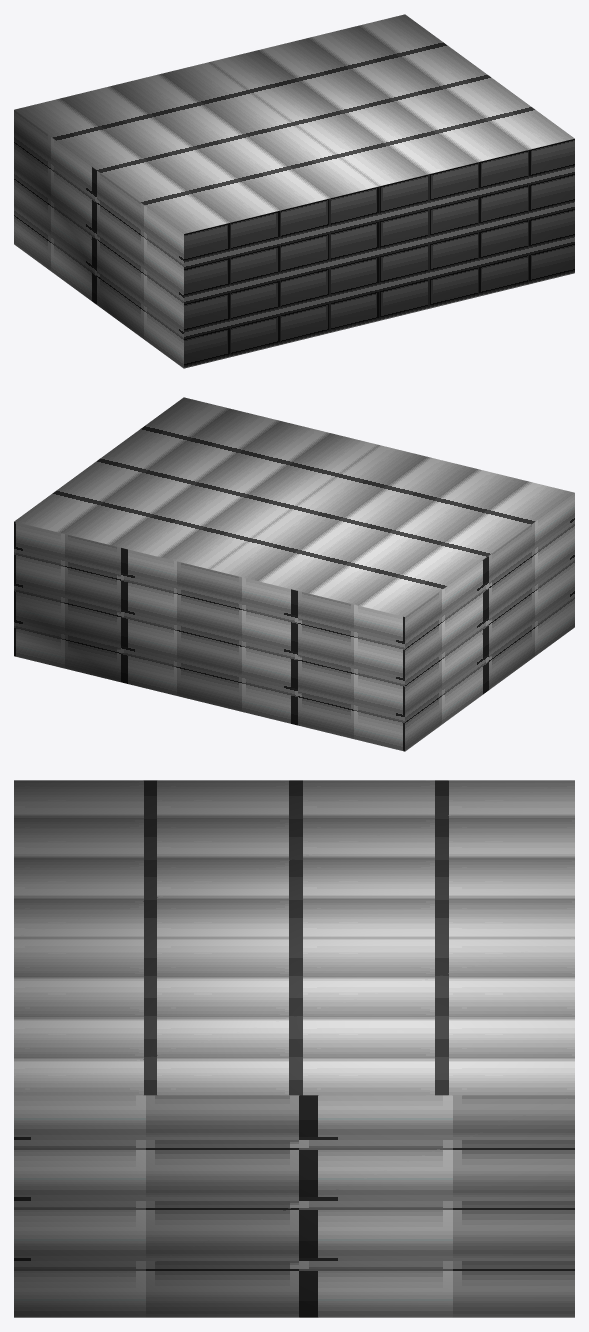
Rendered from 3549IMEL01_20b.gltf.
The picture shows the model from 3 angles, top to bottom: view 1: azimuth 30°, elevation 25°; view 2: azimuth 150°, elevation 25°; view 3: azimuth 270°, elevation 25°; orthographic projection. The views are drawn at different scales.
Visible parts, largest first — view 1: 3549IMEL01_20b; view 2: 3549IMEL01_20b; view 3: 3549IMEL01_20b.
Part boxes in pixels (x1,y1,x2,y2): 3549IMEL01_20b: (14,14,574,368); 3549IMEL01_20b: (14,397,574,751); 3549IMEL01_20b: (14,780,574,1317).
Bounding box in the file's own units: 0.8516 × 0.28 × 0.6406.
3 materials, 3 textured.
